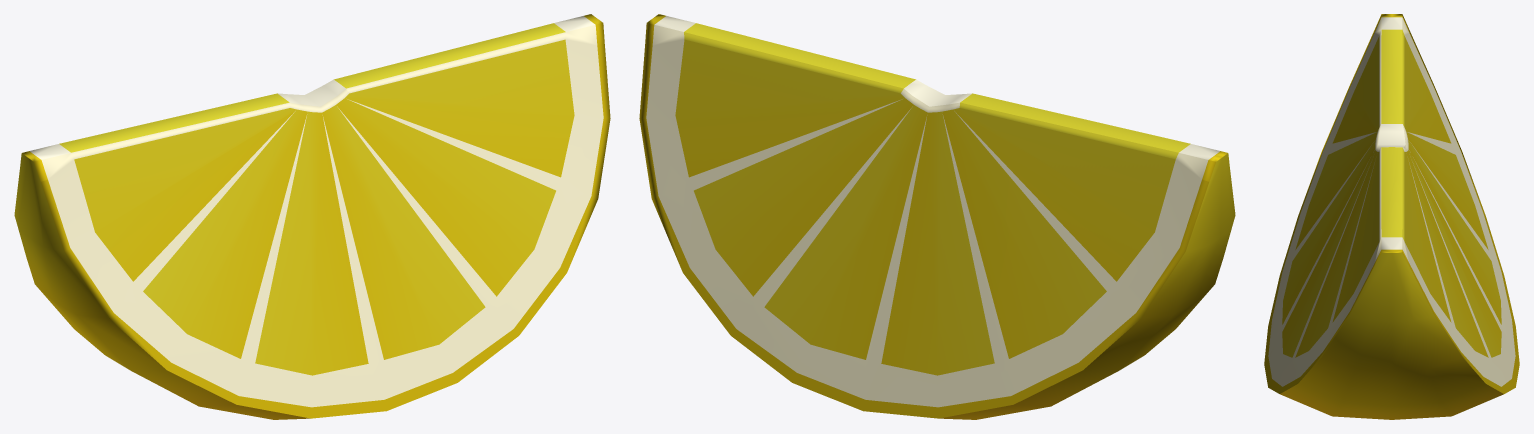
Rendered from Lemon_Sliced.fbx.
The picture shows the model from 3 angles, left to right: view 1: azimuth 30°, elevation 25°; view 2: azimuth 150°, elevation 25°; view 3: azimuth 270°, elevation 25°; orthographic projection. The views are drawn at different scales.
Parts seen in each view (by area): view 1: Lemon_Sliced; view 2: Lemon_Sliced; view 3: Lemon_Sliced.
Boxes of the visible parts, box(x1,y1,x2,y2) form: Lemon_Sliced: box(14, 14, 610, 419); Lemon_Sliced: box(639, 14, 1235, 419); Lemon_Sliced: box(1264, 14, 1519, 419).
Size of the model in its own units: 23.48 by 11.79 by 10.62.
